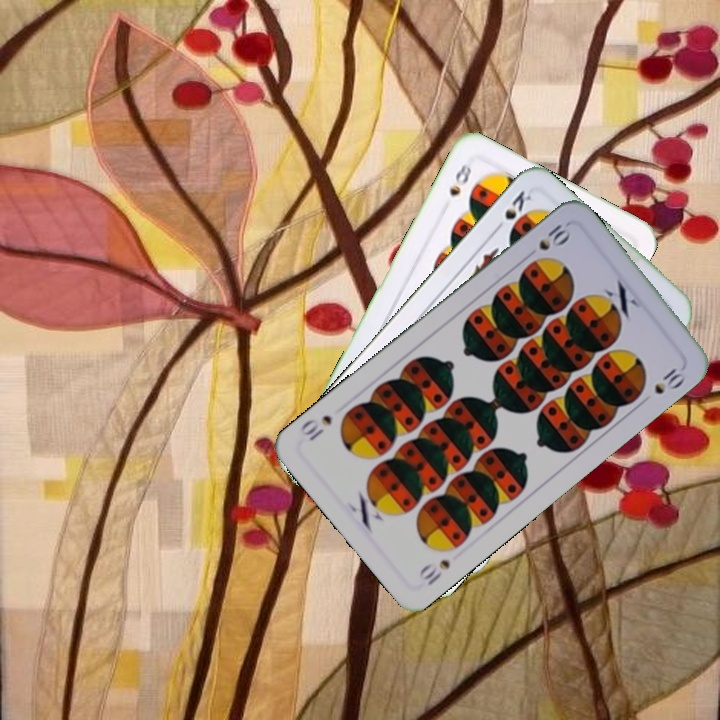S10: (521, 219, 573, 262), (415, 555, 453, 589)
S8: (445, 159, 474, 199)
SK: (489, 186, 534, 235)
